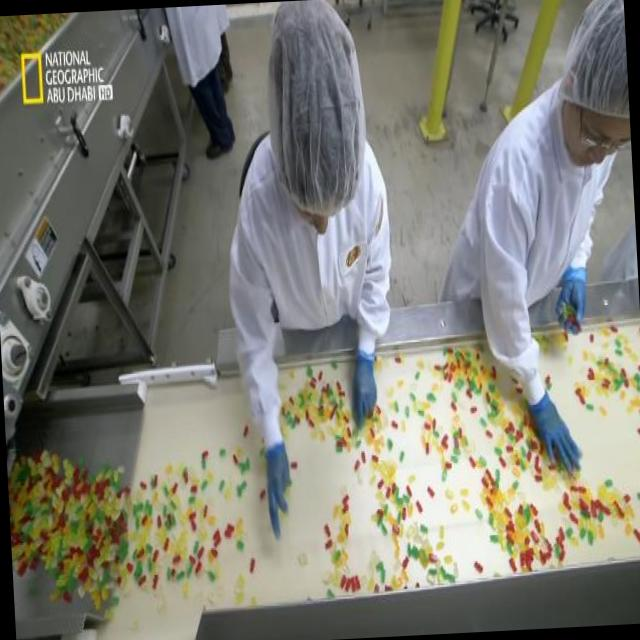hairnet: (264, 0, 368, 211), (563, 0, 630, 131)
